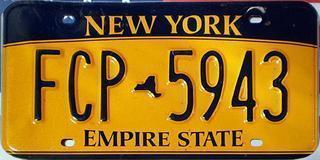placa de veiculo: (5, 2, 314, 154)
